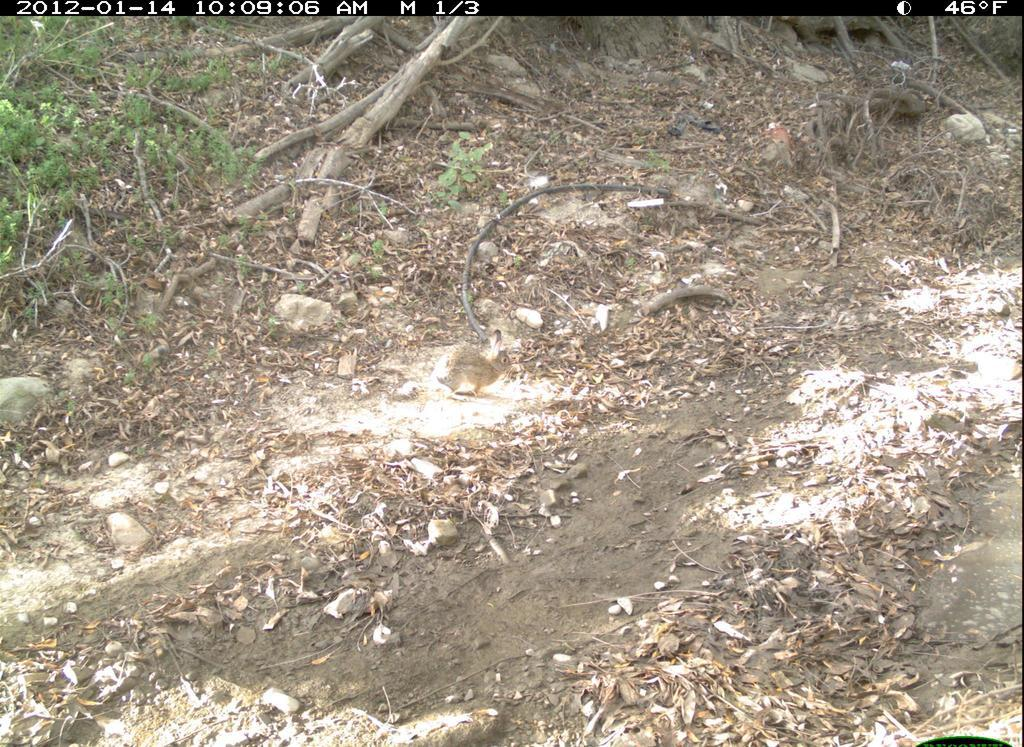rabbit: (411, 333, 546, 419)
